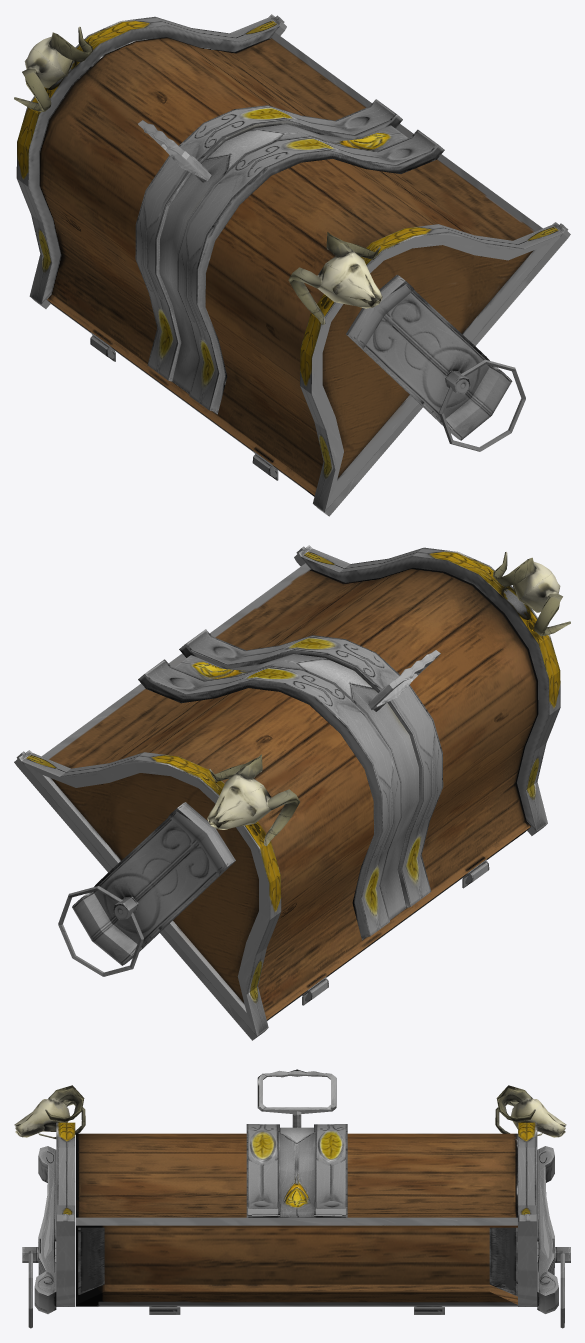
File: ChestTop.fbx
The picture shows the model from 3 angles, top to bottom: view 1: azimuth 30°, elevation 25°; view 2: azimuth 150°, elevation 25°; view 3: azimuth 270°, elevation 25°; orthographic projection. The views are drawn at different scales.
Parts seen in each view (by area): view 1: Loot_17; view 2: Loot_17; view 3: Loot_17.
Boxes of the visible parts, box(x1,y1,x2,y2) form: Loot_17: box(14, 14, 570, 516); Loot_17: box(14, 545, 570, 1040); Loot_17: box(14, 1069, 570, 1328).
Bounding box in the file's own units: 30.75 × 31.37 × 67.3.
